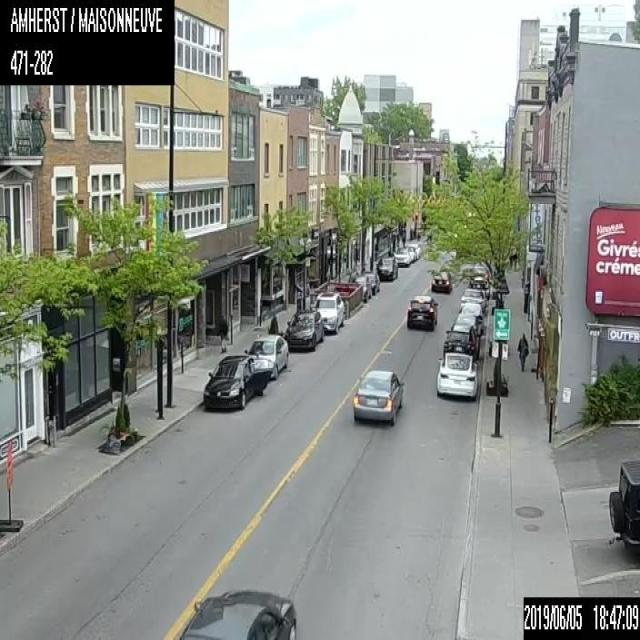construction: (0, 438, 22, 533)
pedestrian: (515, 331, 530, 373)
vehicle: (179, 585, 296, 639), (202, 352, 274, 411), (607, 456, 639, 561), (351, 368, 403, 425), (244, 333, 288, 379), (436, 352, 478, 398), (284, 308, 323, 350), (310, 290, 343, 330), (442, 323, 478, 357), (406, 293, 438, 331), (453, 312, 480, 336), (459, 287, 485, 310), (351, 275, 371, 301), (460, 302, 483, 324), (376, 256, 397, 280), (428, 272, 452, 293), (360, 270, 379, 293), (393, 248, 410, 265)
